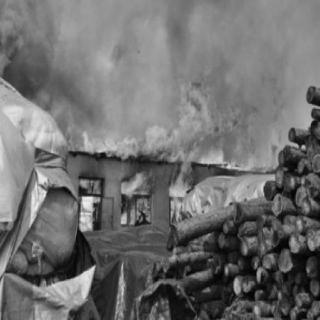Smoke: (2, 3, 282, 101)
